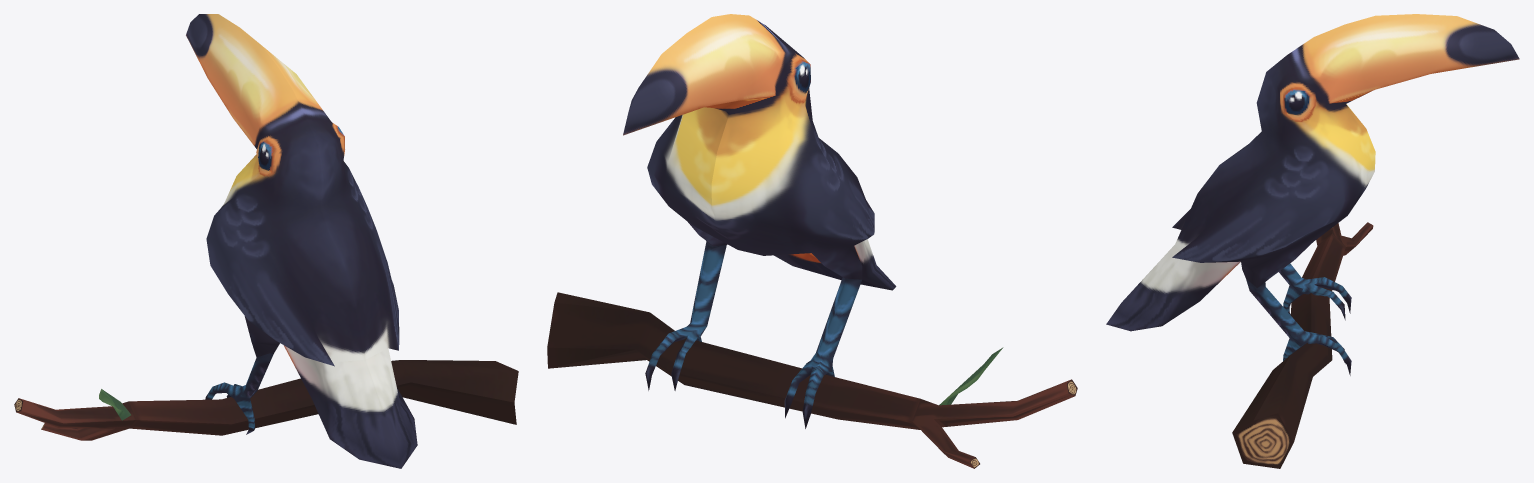
The model's file is low-poly_toucan.glb.
3 renders of one model, left to right at view 1: azimuth 30°, elevation 25°; view 2: azimuth 150°, elevation 25°; view 3: azimuth 270°, elevation 25°, orthographic. The views are drawn at different scales.
Parts seen in each view (by area): view 1: toucan, branch; view 2: toucan, branch; view 3: toucan, branch.
Part boxes in pixels (x1,y1,x2,y2): toucan: (186, 14, 417, 468); branch: (14, 360, 518, 440); toucan: (623, 14, 896, 428); branch: (547, 292, 1077, 468); toucan: (1106, 14, 1519, 375); branch: (1232, 222, 1373, 468).
Size of the model in its own units: 5.93 by 4.59 by 4.7.
2 materials, 2 textured.
